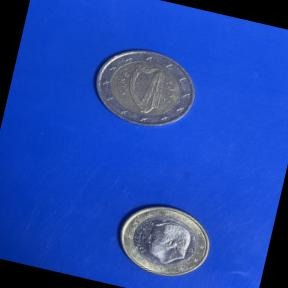1 Euro-B: (102, 187, 222, 288)
2 Euro-B: (76, 34, 208, 141)
